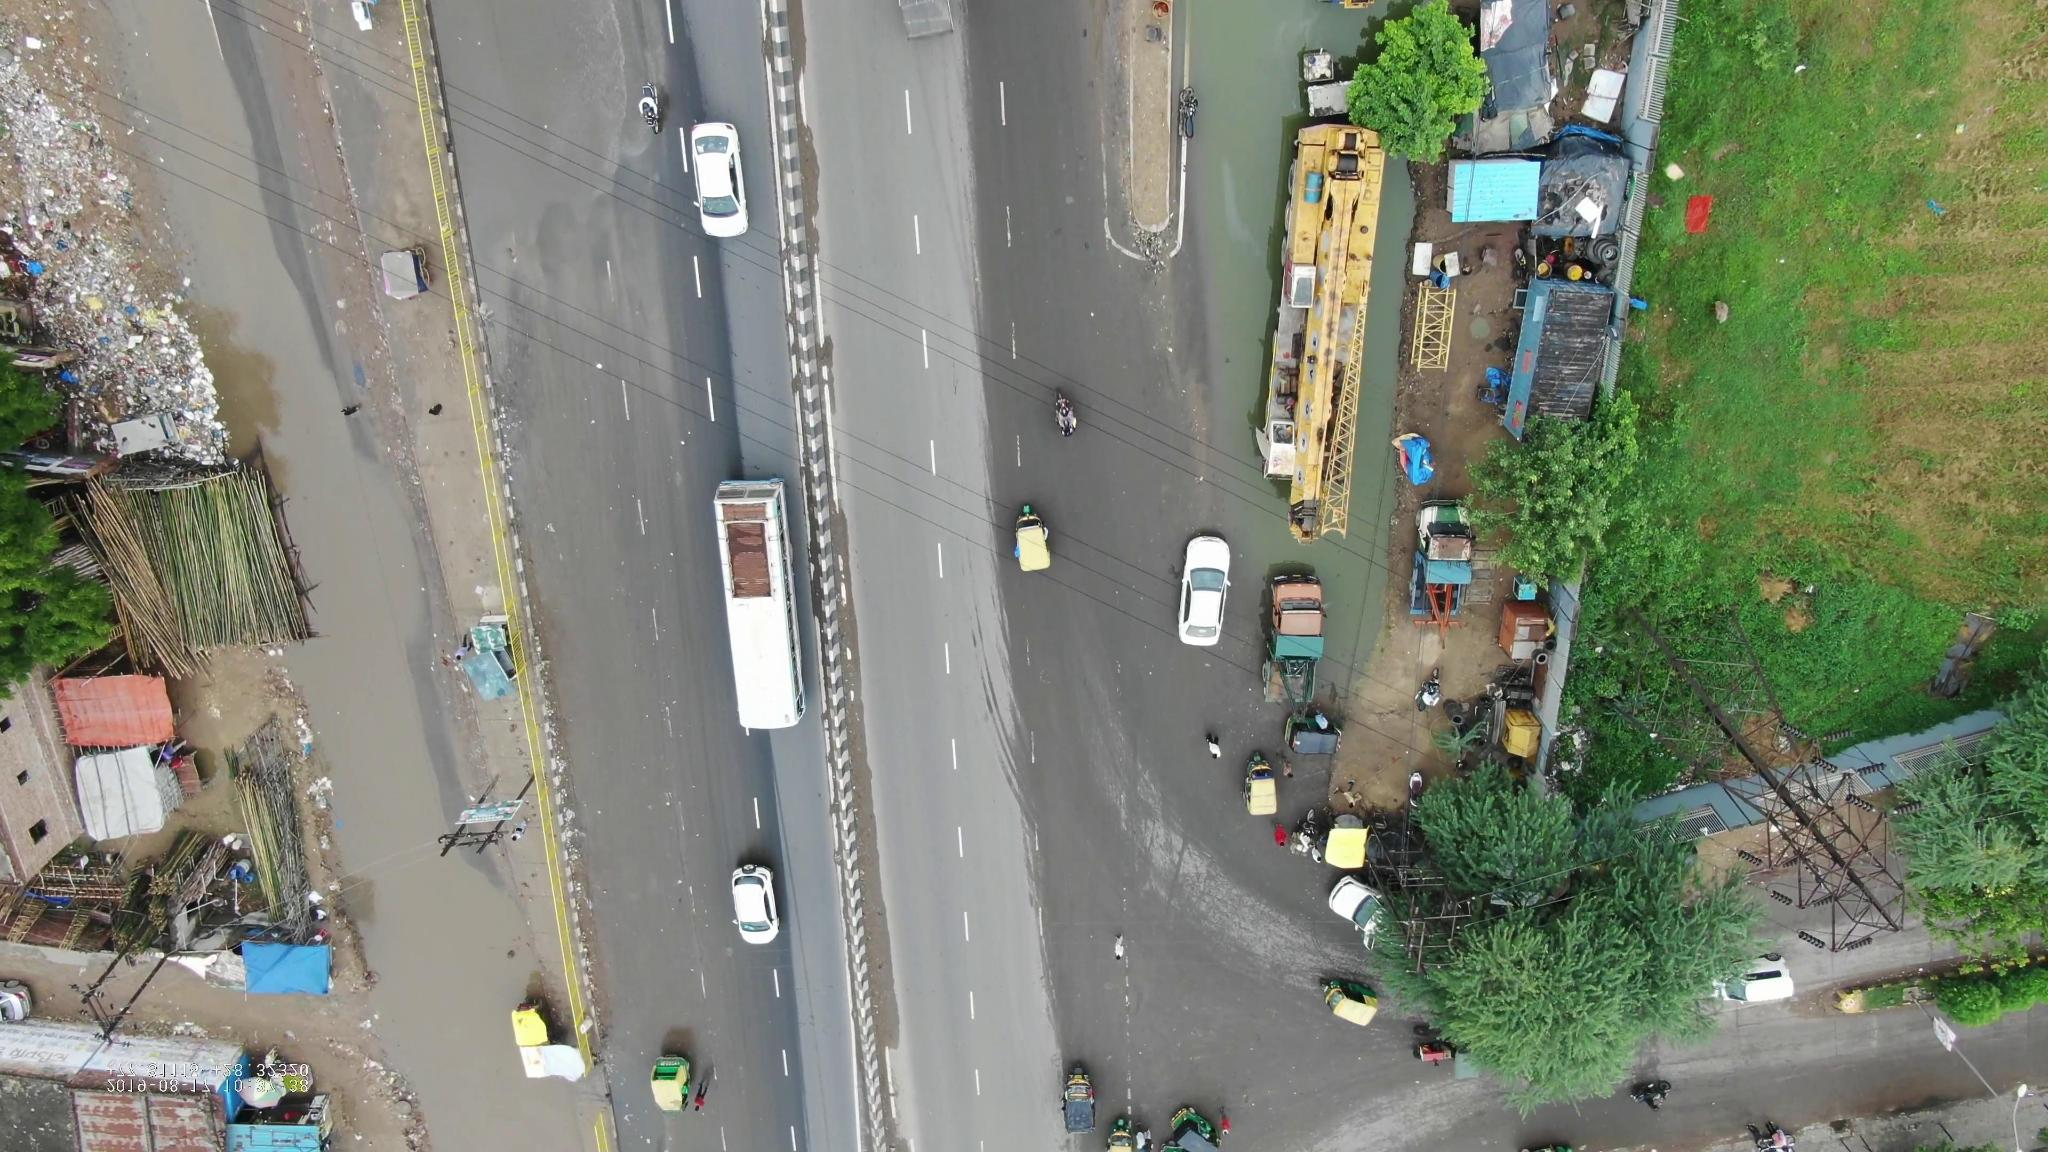Muddy_road: (504, 363, 620, 565)
Road_side_garbage: (7, 86, 205, 457)
Waterlogging: (1189, 21, 1411, 663), (232, 371, 459, 810), (325, 844, 577, 1146), (442, 11, 667, 264), (120, 20, 293, 302)
